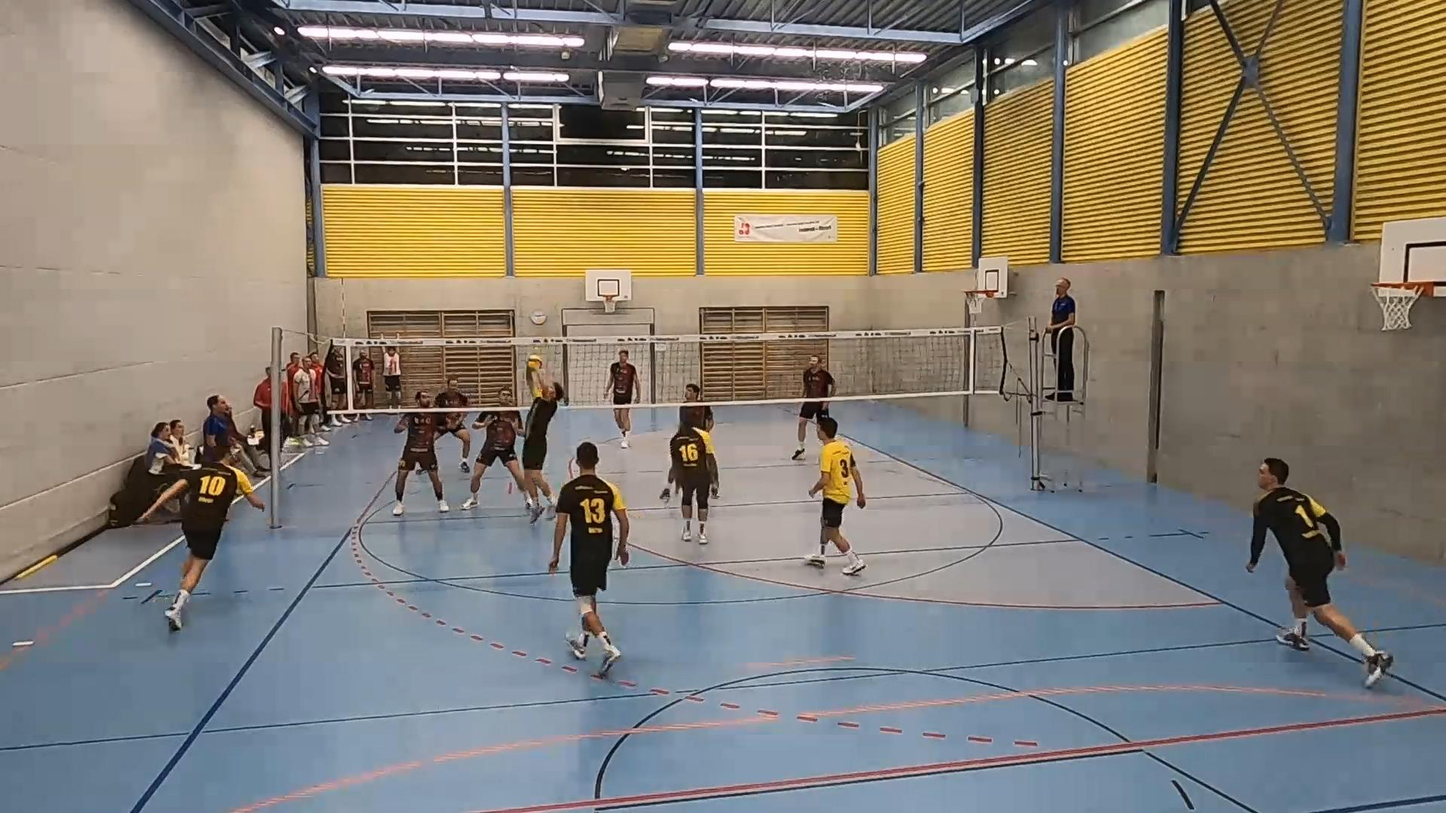Player: (1247, 458, 1393, 687), (138, 451, 264, 630), (548, 442, 629, 674), (804, 416, 865, 574), (462, 388, 533, 510), (392, 413, 449, 516), (668, 422, 716, 544), (792, 355, 834, 459), (434, 377, 471, 472), (609, 349, 640, 448), (679, 405, 714, 431)
Set: (522, 367, 568, 514)
ball: (527, 356, 548, 370)
